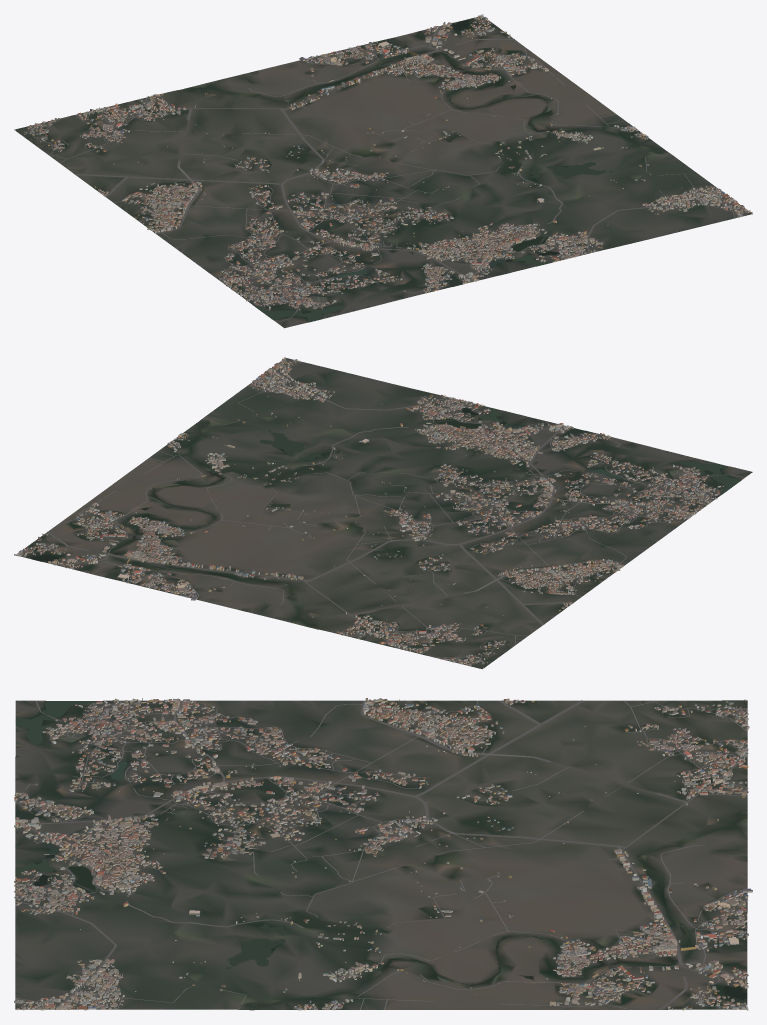
3 renders of one model, top to bottom at view 1: azimuth 30°, elevation 25°; view 2: azimuth 150°, elevation 25°; view 3: azimuth 270°, elevation 25°, orthographic. The views are drawn at different scales.
Parts seen in each view (by area): view 1: ground, buildings, roads, water; view 2: ground, buildings, roads, water; view 3: ground, buildings, roads, water.
Boxes of the visible parts, x1,y1,x2,y2 form: ground: [14, 17, 752, 328]; buildings: [15, 14, 752, 310]; roads: [29, 20, 746, 322]; water: [194, 20, 665, 321]; ground: [18, 358, 752, 669]; buildings: [14, 357, 723, 668]; roads: [22, 361, 744, 664]; water: [31, 406, 740, 622]; ground: [15, 700, 747, 1010]; buildings: [14, 698, 752, 1010]; roads: [15, 700, 748, 1009]; water: [15, 701, 747, 1009].
Bounding box in the file's own units: 2820 × 27.63 × 2830.
